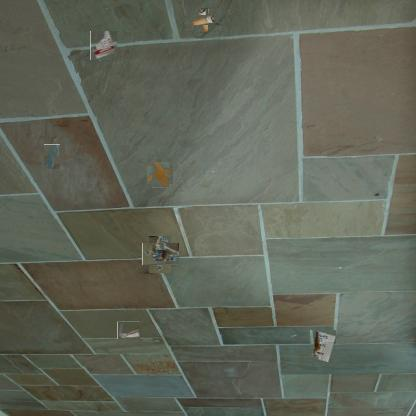dirty: (146, 240, 175, 269), (310, 330, 336, 362), (90, 30, 117, 60), (117, 321, 140, 339), (194, 12, 212, 29)
liquid: (150, 164, 172, 186), (44, 144, 60, 169)
